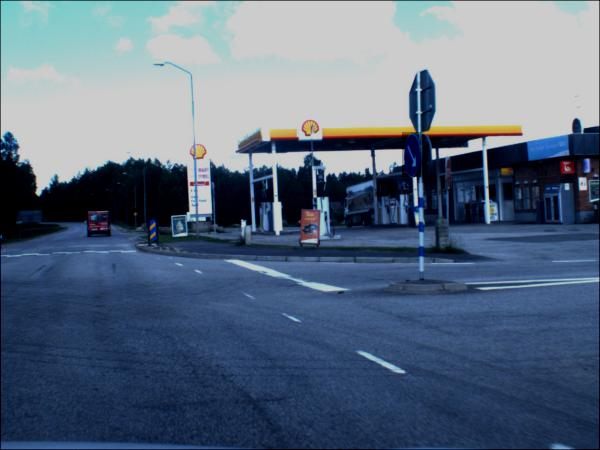50_SIGN: (134, 209, 140, 214)
PASS_RIGHT_SIDE: (403, 133, 423, 179)
PRIORITY_ROAD: (134, 214, 140, 219)
STOP: (447, 158, 455, 191)
